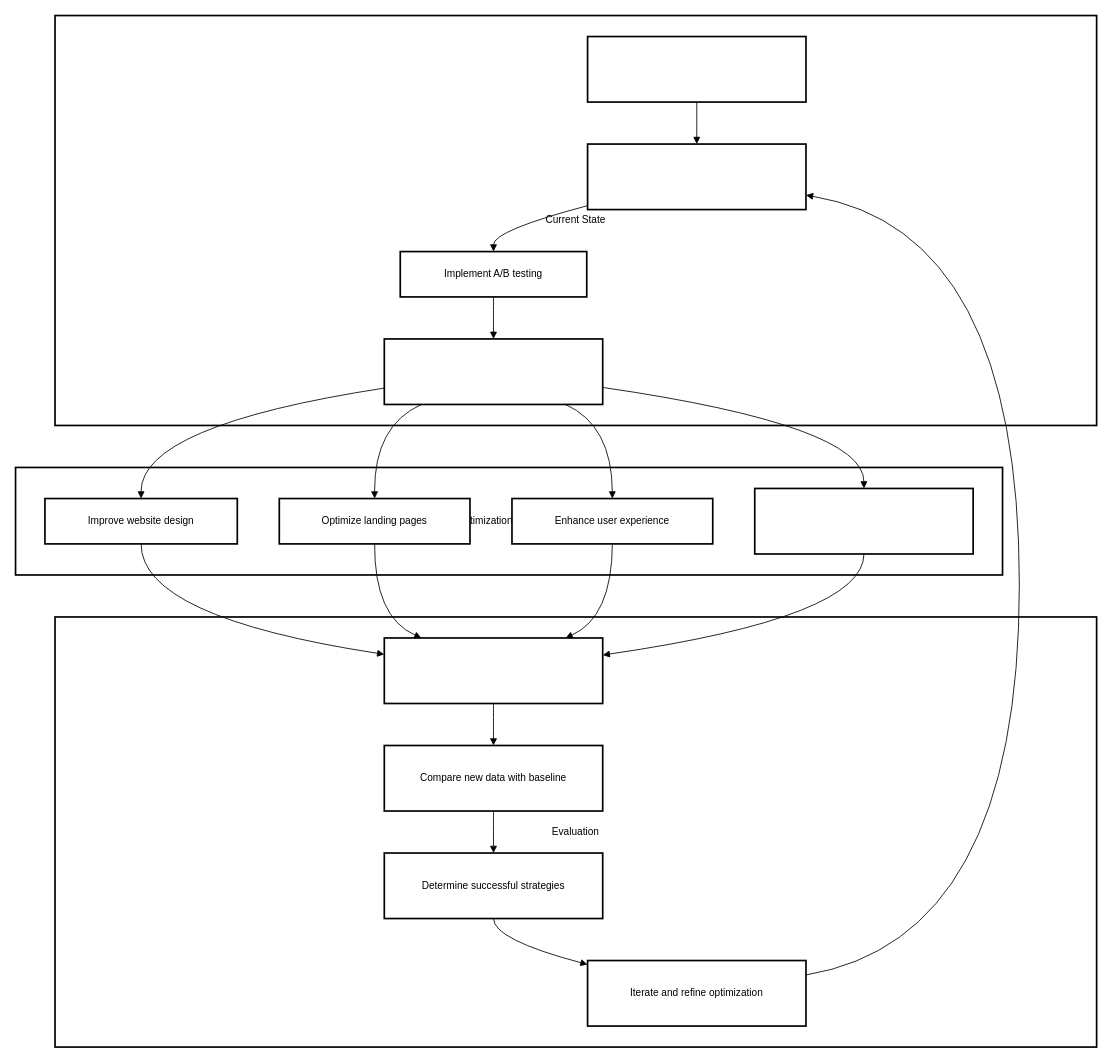
The diagram is 1111 pixels wide and 1062 high, and some of its shapes have lost their labels. The centre of each missing label's shape, as x and y in pixels:
Analyze data to identify issues: the point at 696,176
Collect new data on conversion rate: the point at 493,670
Gather data on current conversion rate: the point at 696,68
Implement personalized messaging: the point at 863,520
Monitor and track performance: the point at 493,371
